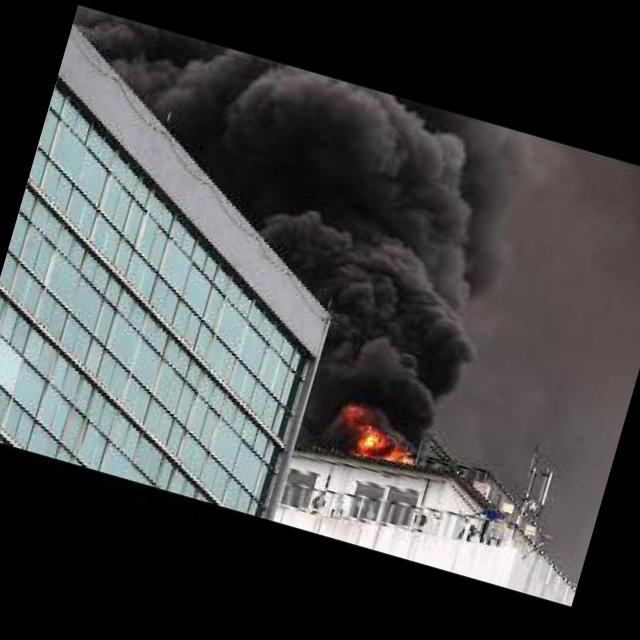fire: (339, 405, 427, 468)
smoke: (196, 61, 546, 433)
